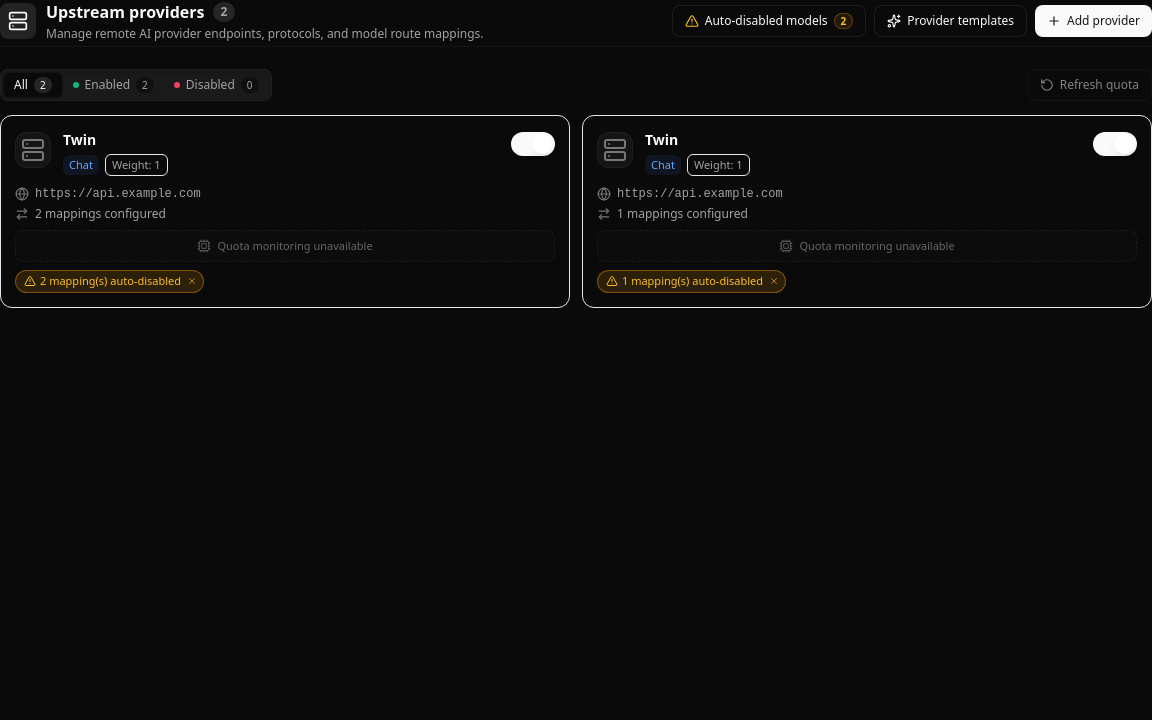
Test: Auto-disabled dialog identities and metadata › preserves case-distinct local ids, disambiguates equal provider names by id and orders sources deterministically
Click the button with test id "ai-gateway-auto-disabled-models" at (769, 21), box [672,5,866,37]
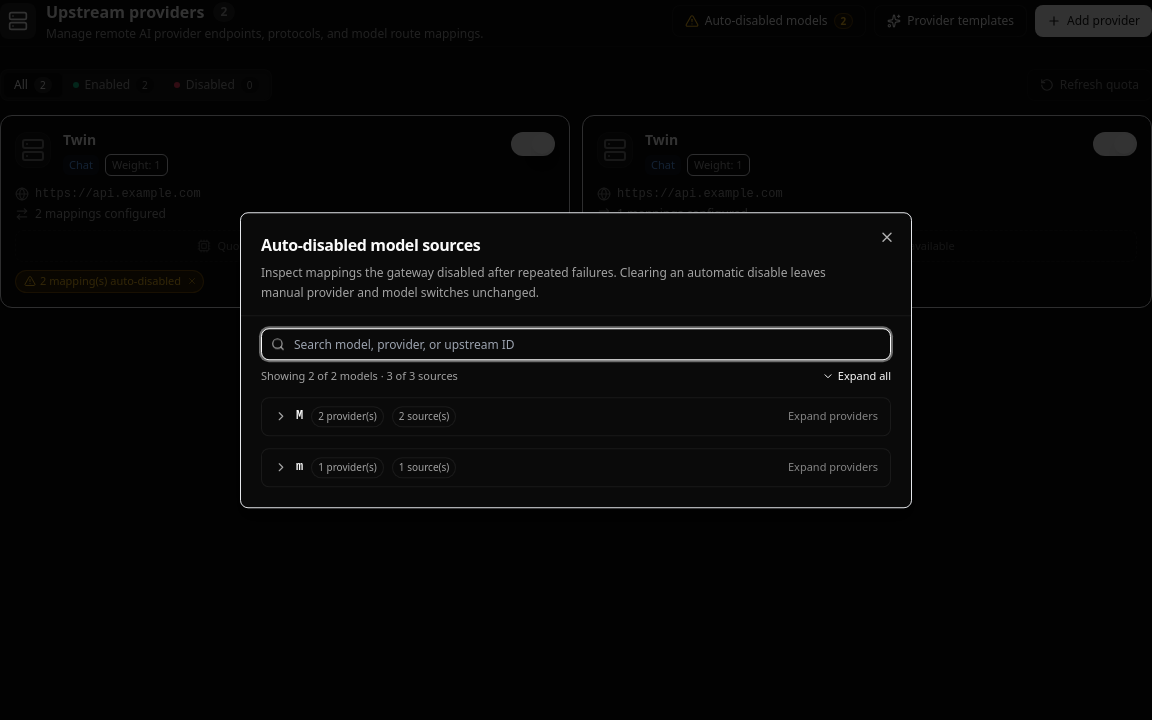
Click the button with test id "ai-gateway-auto-disabled-toggle-all" at (856, 377), box [822,368,891,385]
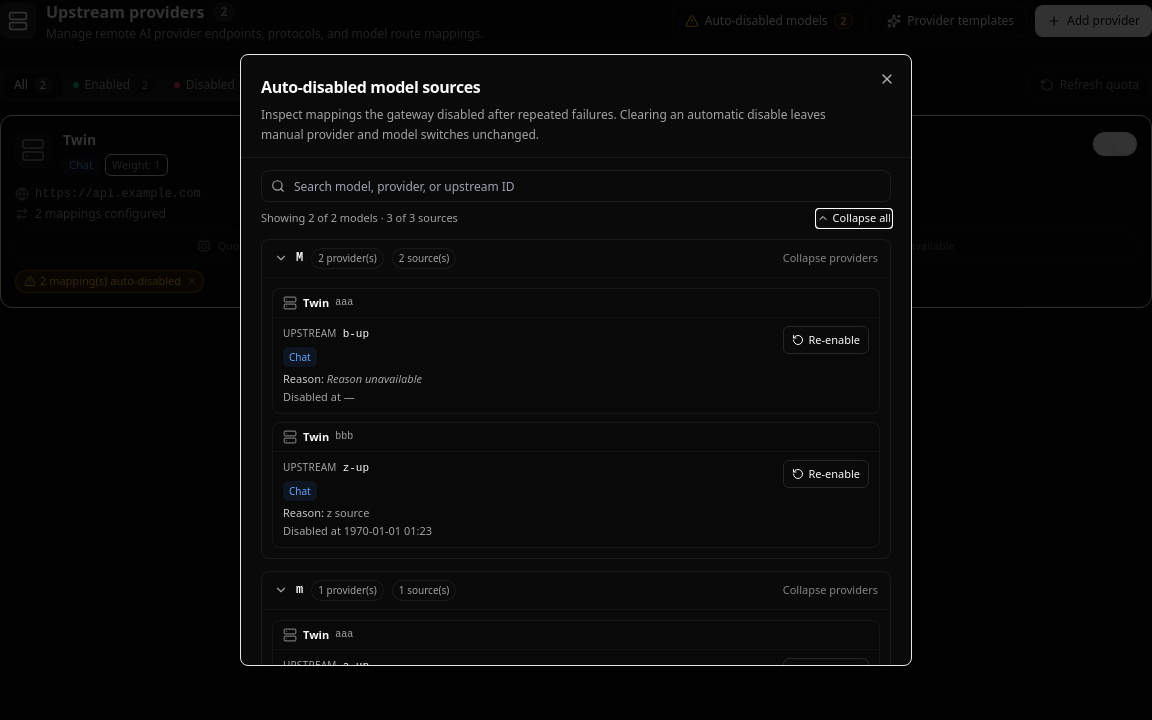
expect the heading "M" is shown: met, box [296,250,303,266]
expect the heading "m" is shown: met, box [296,582,303,598]
expect the number of elements titled "aaa" is 2: met, box [335,295,353,310]; [335,627,353,642]
